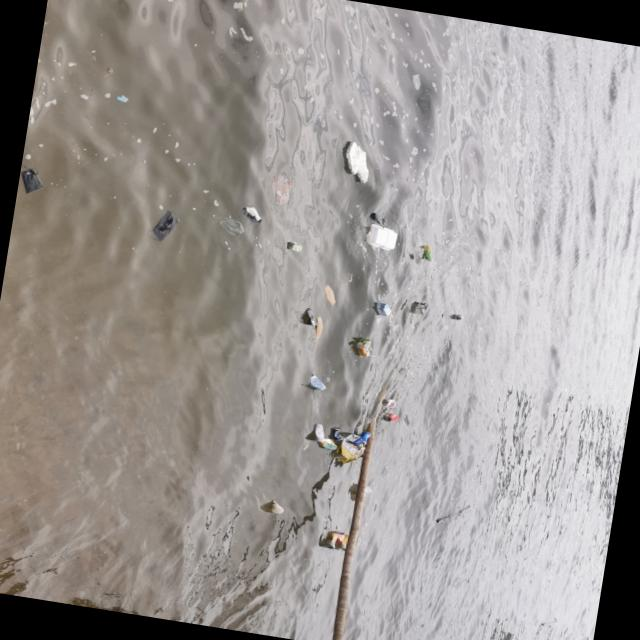can: (345, 433, 365, 452), (308, 375, 328, 393), (317, 438, 339, 453), (305, 309, 320, 327), (312, 425, 326, 444), (325, 533, 339, 551), (422, 246, 436, 263), (339, 534, 351, 552), (331, 428, 345, 443), (382, 400, 397, 411), (361, 432, 372, 447), (386, 414, 401, 424), (454, 315, 465, 322)
foam: (343, 142, 375, 185), (368, 225, 399, 253), (364, 487, 373, 499), (508, 634, 518, 640)
